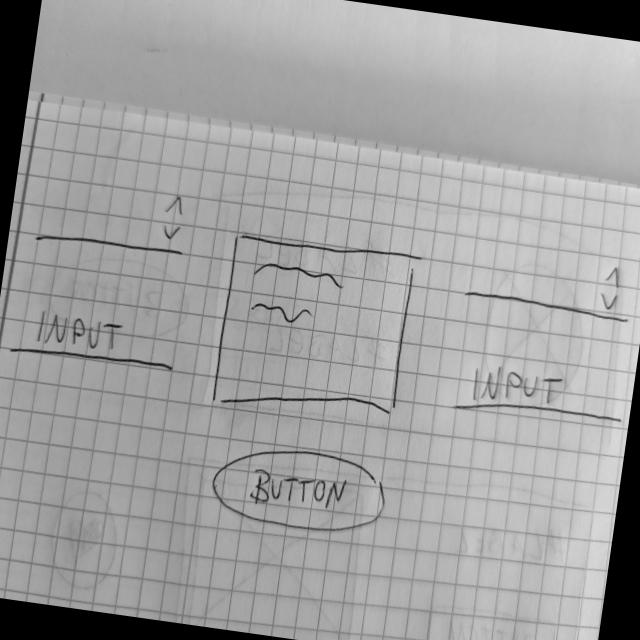button: (206, 438, 395, 543)
input: (451, 353, 632, 437), (8, 300, 185, 383)
number-input: (459, 239, 640, 329), (31, 173, 194, 267)
textarea: (211, 227, 423, 433)
